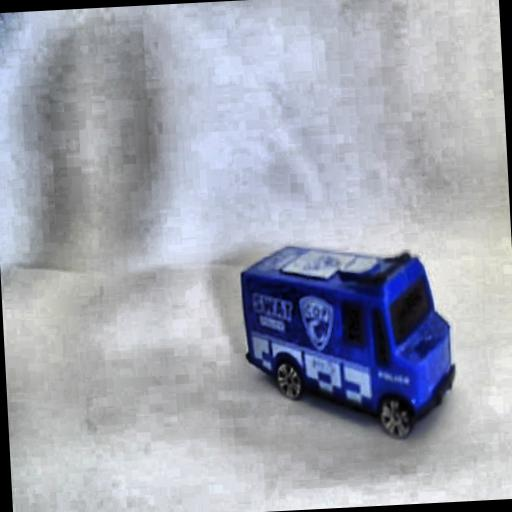police car: (230, 222, 462, 453)
